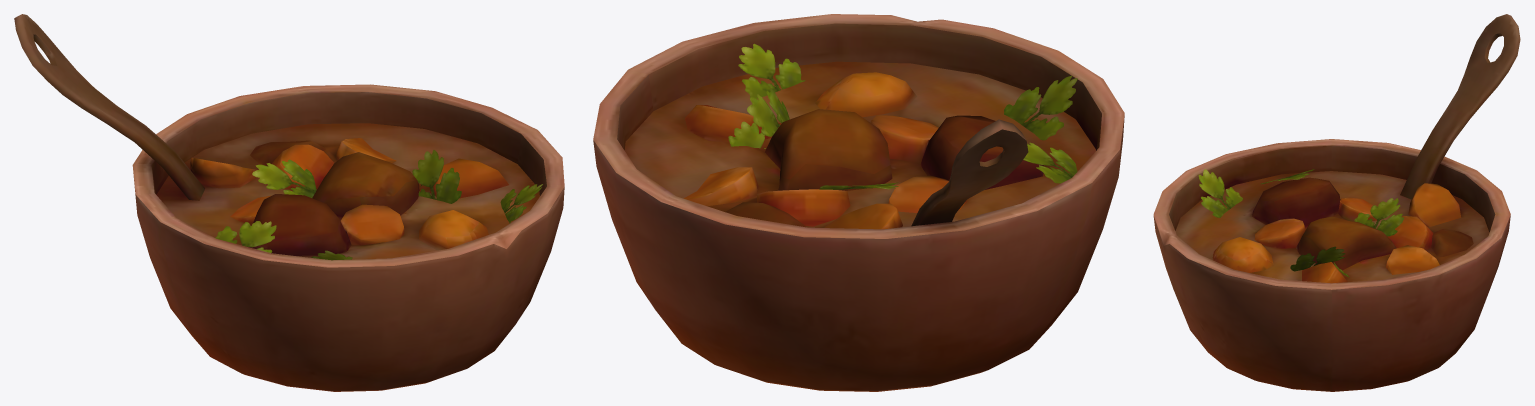
3 views of the same model, side by side, from view 1: azimuth 30°, elevation 25°; view 2: azimuth 150°, elevation 25°; view 3: azimuth 270°, elevation 25° (orthographic). The views are drawn at different scales.
Parts seen in each view (by area): view 1: SM_Meat_Stew_01_LOD0; view 2: SM_Meat_Stew_01_LOD0; view 3: SM_Meat_Stew_01_LOD0.
Boxes of the visible parts, left/top/right/bottom form: SM_Meat_Stew_01_LOD0: left=14, top=14, right=564, bottom=391; SM_Meat_Stew_01_LOD0: left=593, top=14, right=1124, bottom=391; SM_Meat_Stew_01_LOD0: left=1153, top=14, right=1520, bottom=391.
Bounding box in the file's own units: 0.3455 × 0.2281 × 0.3193.
1 material, 1 textured.
